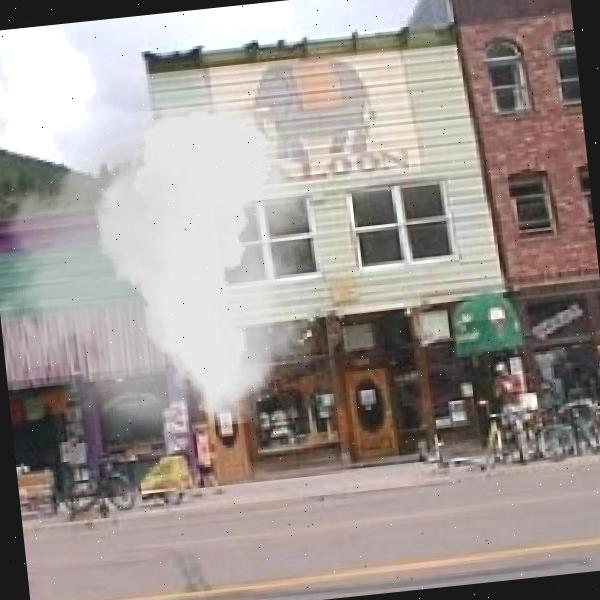smoke: (0, 73, 359, 470)
